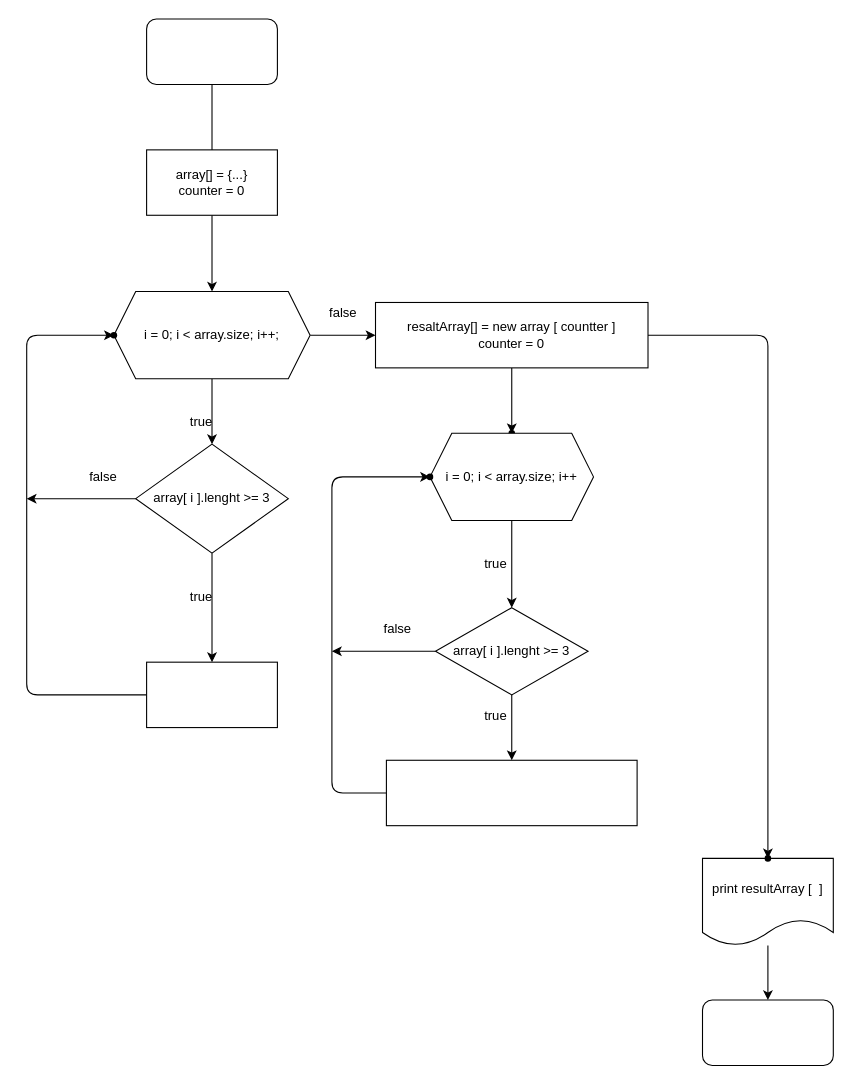
This 852x1085 diagram has some shape labels left out. Each missing label, with the centre of its shape:
"counter ++" goes at point 211,694.
"Finish" goes at point 767,1032.
"resultArray[ counter ] = array[ i ] counter++" goes at point 511,792.
"Start" goes at point 211,51.
